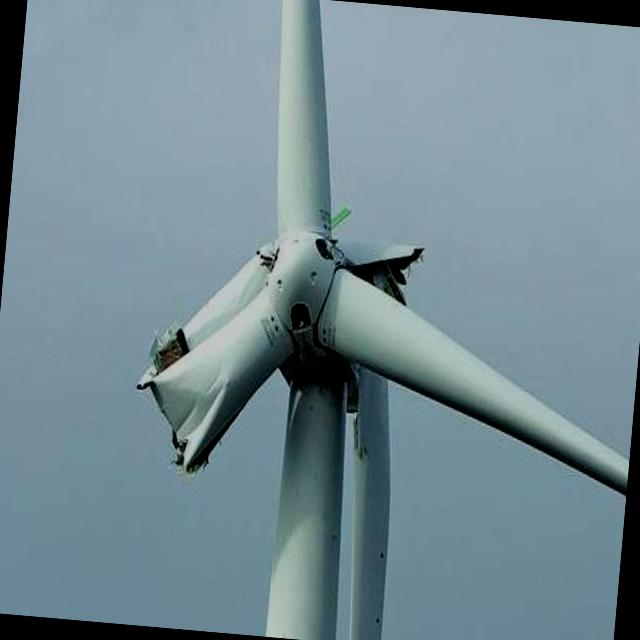crack: (122, 190, 440, 512)
